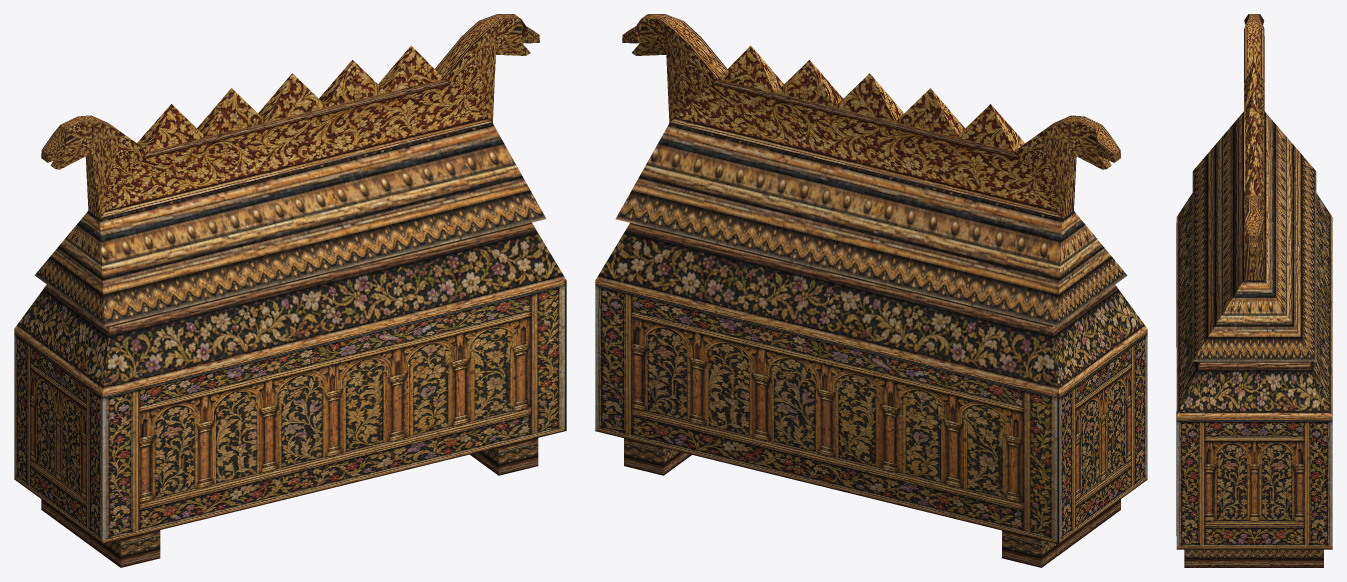
Rendered from mm9_deco_reliquary.glb.
3 views of the same model, side by side, from view 1: azimuth 30°, elevation 25°; view 2: azimuth 150°, elevation 25°; view 3: azimuth 270°, elevation 25° (orthographic). The views are drawn at different scales.
Parts seen in each view (by area): view 1: Reliquary; view 2: Reliquary; view 3: Reliquary.
Boxes of the visible parts, x1,y1,x2,y2 form: Reliquary: (14, 14, 566, 567); Reliquary: (595, 14, 1147, 567); Reliquary: (1176, 14, 1332, 567).
Size of the model in its own units: 0.838 by 0.6837 by 0.261.
Materials: 2 (2 with a texture image).
